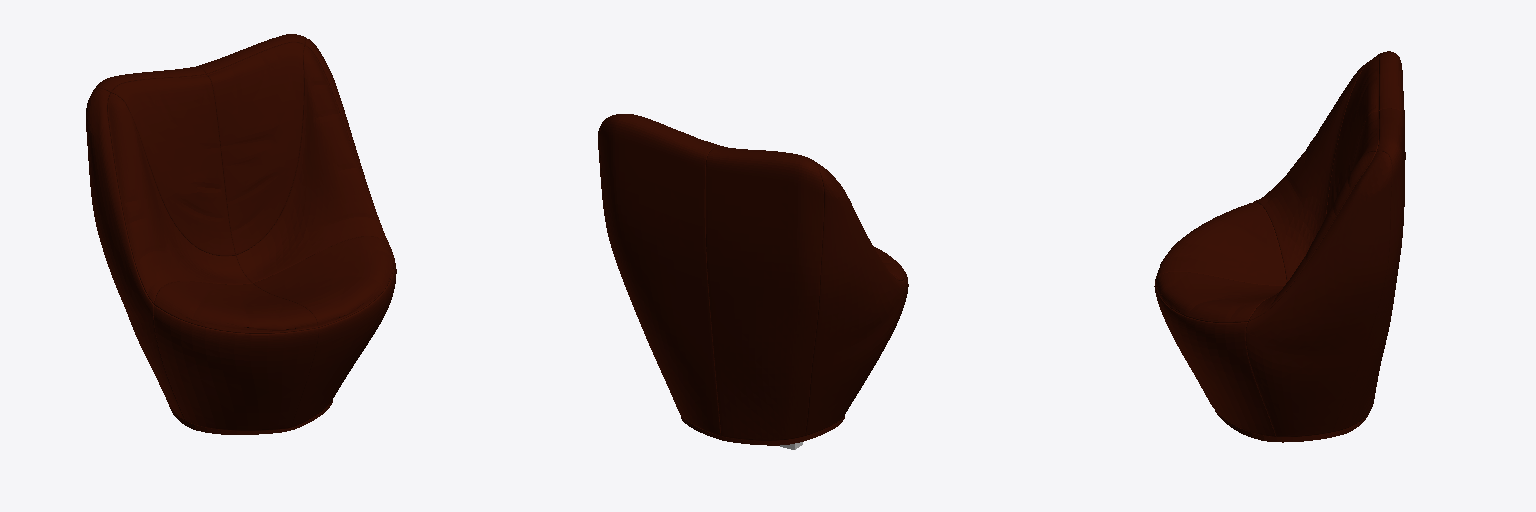
File: zxc1.obj
The picture shows the model from 3 angles: view 1: azimuth 30°, elevation 25°; view 2: azimuth 150°, elevation 25°; view 3: azimuth 270°, elevation 25°; orthographic projection.
Visible parts, largest first — view 1: z9c; view 2: z9c; view 3: z9c.
Part boxes in pixels (x1,y1,x2,y2): z9c: (86,34,396,434); z9c: (598,114,908,445); z9c: (1154,51,1405,442).
Bounding box in the file's own units: 33.81 × 41.09 × 29.32.